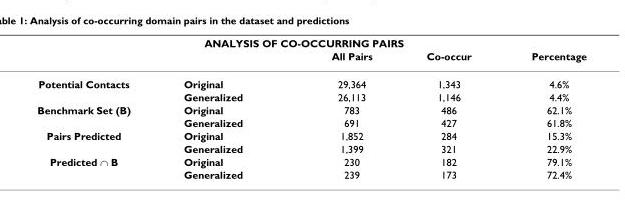table: (36, 36, 586, 180)
table column: (156, 36, 286, 180), (36, 36, 156, 180), (286, 36, 398, 180), (398, 36, 500, 180), (500, 36, 586, 180)
table column header: (36, 36, 586, 69)
table row: (36, 69, 586, 90), (36, 49, 586, 69), (36, 36, 586, 49), (36, 90, 586, 103), (36, 103, 586, 116), (36, 128, 586, 141), (36, 141, 586, 154), (36, 154, 586, 167), (36, 167, 586, 180), (36, 116, 586, 128)
table spanning cell: (36, 36, 586, 49), (36, 69, 156, 103), (36, 128, 156, 154), (36, 154, 156, 180), (36, 103, 156, 128)
